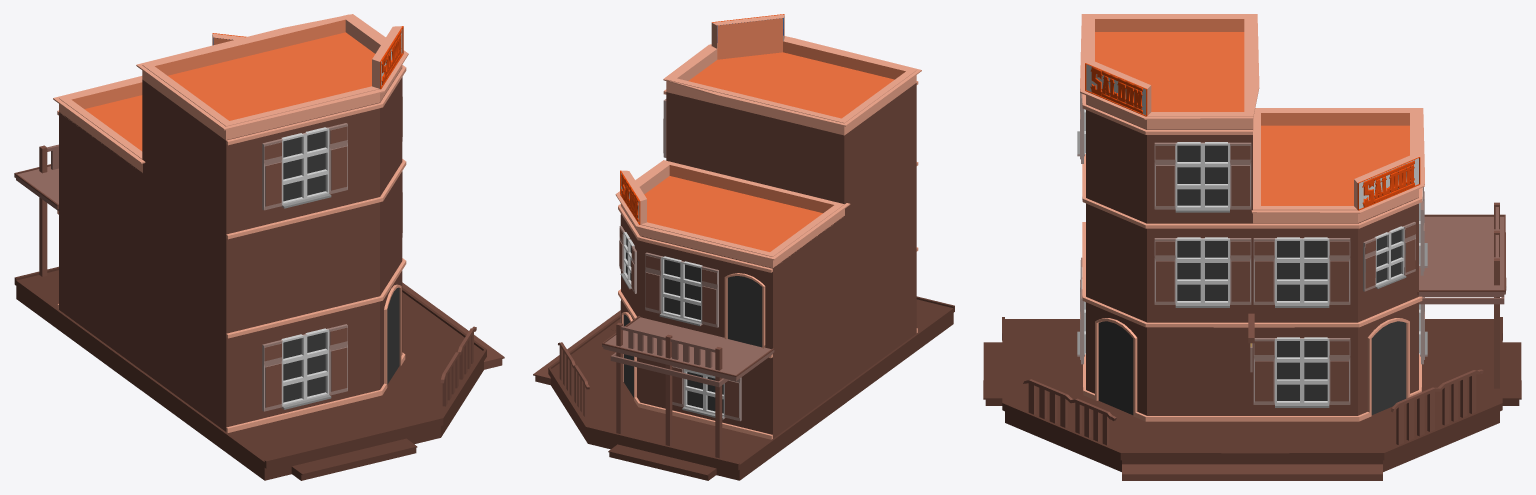
File: Saloonbig.fbx
3 views of the same model, side by side, from view 1: azimuth 30°, elevation 25°; view 2: azimuth 150°, elevation 25°; view 3: azimuth 270°, elevation 25° (orthographic). The views are drawn at different scales.
Parts seen in each view (by area): view 1: Huis laag 1.003, Huis laag 1.005, Huis laag 1.004, platform.001, Huis laag 1.002, huis laag 2, Huis laag 1, Raam1.007, Raam1.006, Huis laag 1.001, platform, deur rand.002 (+9 smaller); view 2: Huis laag 1.004, Huis laag 1.005, Huis laag 1.001, platform, huis laag 2, Huis laag 1, Huis laag 1.003, Huis laag 1.002, Raam1.002, huis laag 2.001, platform.001, deur rand.001 (+11 smaller); view 3: Huis laag 1.005, Huis laag 1.001, platform.001, platform, Huis laag 1.002, Huis laag 1.003, Huis laag 1.004, huis laag 2, Raam1.008, Raam1.003, Raam1.005, Raam1 (+21 smaller).
Part boxes in pixels (box(x1,y1,x2,y2)): Huis laag 1.003: box(143, 171, 402, 333); Huis laag 1.005: box(136, 14, 408, 140); Huis laag 1.004: box(142, 68, 402, 239); platform.001: box(140, 300, 486, 480); Huis laag 1.002: box(143, 271, 402, 431); huis laag 2: box(14, 112, 142, 272); Huis laag 1: box(59, 211, 142, 370); Raam1.007: box(262, 123, 347, 210); Raam1.006: box(262, 324, 347, 411); Huis laag 1.001: box(53, 33, 246, 172); platform: box(14, 266, 419, 389); deur rand.002: box(226, 284, 405, 432); Huis laag 1.004: box(666, 83, 916, 215); Huis laag 1.005: box(663, 14, 921, 135); Huis laag 1.001: box(615, 160, 850, 268); platform: box(548, 326, 847, 480); huis laag 2: box(602, 208, 844, 376); Huis laag 1: box(621, 299, 844, 438); Huis laag 1.003: box(845, 163, 916, 300); Huis laag 1.002: box(845, 249, 916, 385); Raam1.002: box(645, 252, 718, 327); huis laag 2.001: box(602, 317, 774, 381); platform.001: box(604, 296, 954, 401); deur rand.001: box(724, 273, 765, 348); Huis laag 1.005: box(1080, 14, 1259, 129); Huis laag 1.001: box(1251, 108, 1424, 223); platform.001: box(1002, 317, 1253, 471); platform: box(1254, 317, 1502, 471); Huis laag 1.002: box(1086, 302, 1252, 415); Huis laag 1.003: box(1086, 203, 1252, 322); Huis laag 1.004: box(1086, 95, 1252, 229); huis laag 2: box(1253, 197, 1506, 322); Raam1.008: box(1154, 142, 1251, 212); Raam1.003: box(1253, 237, 1350, 307); Raam1.005: box(1154, 237, 1251, 307); Raam1: box(1253, 337, 1350, 407).
Size of the model in its own units: 1313 by 1468 by 2047.
